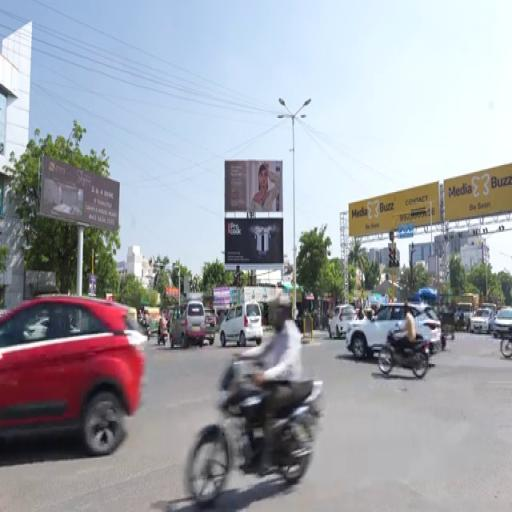Car: (0, 296, 145, 456), (346, 303, 404, 359), (220, 302, 263, 347), (171, 301, 206, 348), (329, 305, 356, 338), (469, 309, 494, 334), (494, 308, 511, 338), (205, 309, 215, 345)
